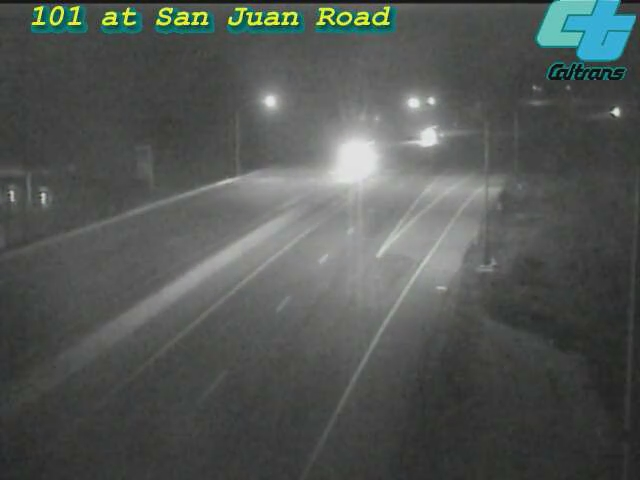vehicle: (326, 134, 376, 184), (405, 111, 455, 161), (590, 88, 640, 138)
